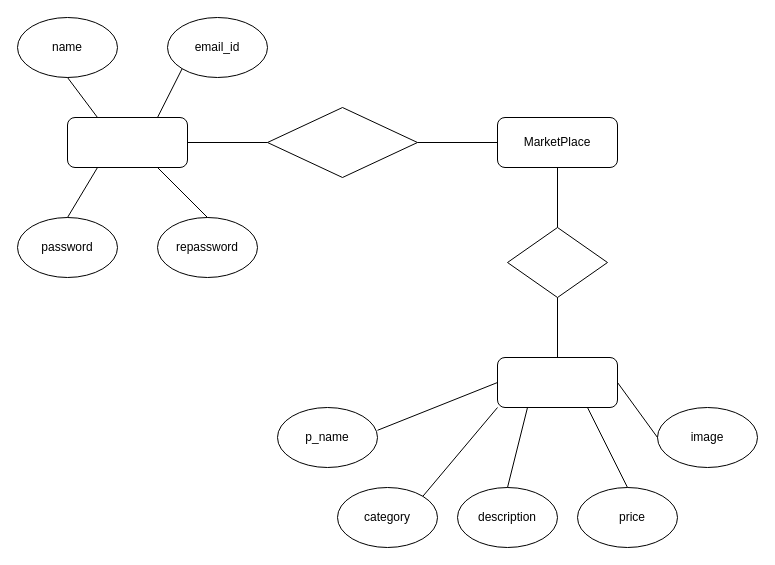
The diagram is 775 pixels wide and 565 high, and some of its shapes have lost their labels. The centre of each missing label's shape, as x and y in pixels:
belongs: [342,142]
Customer: [127,142]
has: [557,262]
Product: [557,382]
